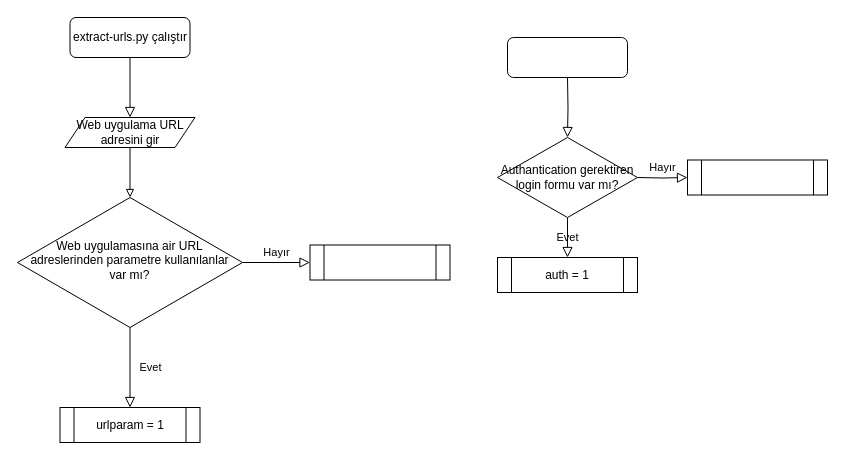
This 845x460 diagram has some shape labels left out. Here are the shapes that lost their labels. From the top down, the centre of each, then its label:
(x=567, y=57): Web uygulamasını tarayıcıda aç
(x=757, y=177): auth = 0
(x=379, y=262): urlparam = 0
